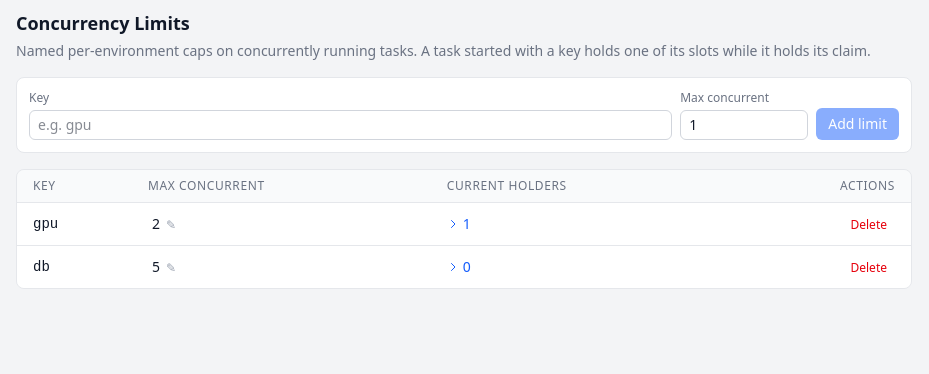
ConcurrencyLimits › refuses a key with a slash, which the key's URL path cannot carry
Expected: the text "gpu" is shown, left=17, top=202, right=132, bottom=246
Step 1. Type "a/b" into the field labelled "Key" → (351, 125), box left=29, top=110, right=672, bottom=140
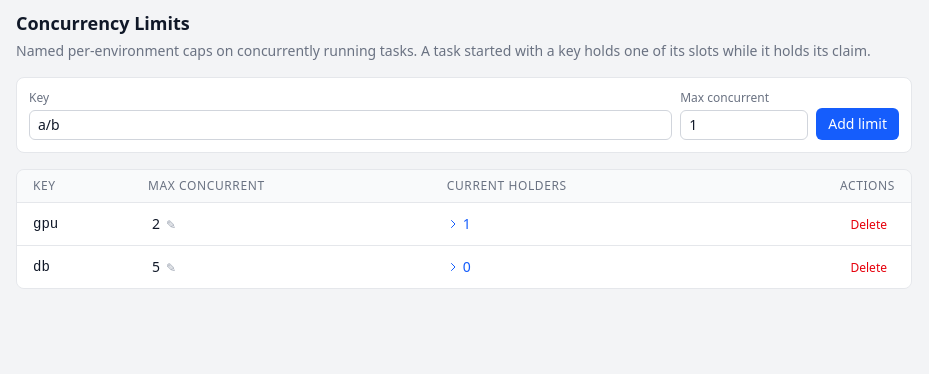
Step 2. Click the button "Add limit" → (858, 124), box left=816, top=108, right=899, bottom=140
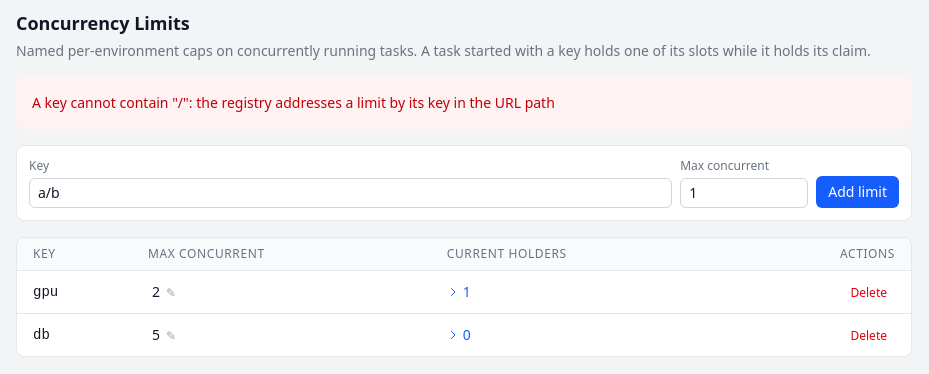
Now the text "cannot contain \"/\"" is shown, box left=32, top=93, right=555, bottom=112
